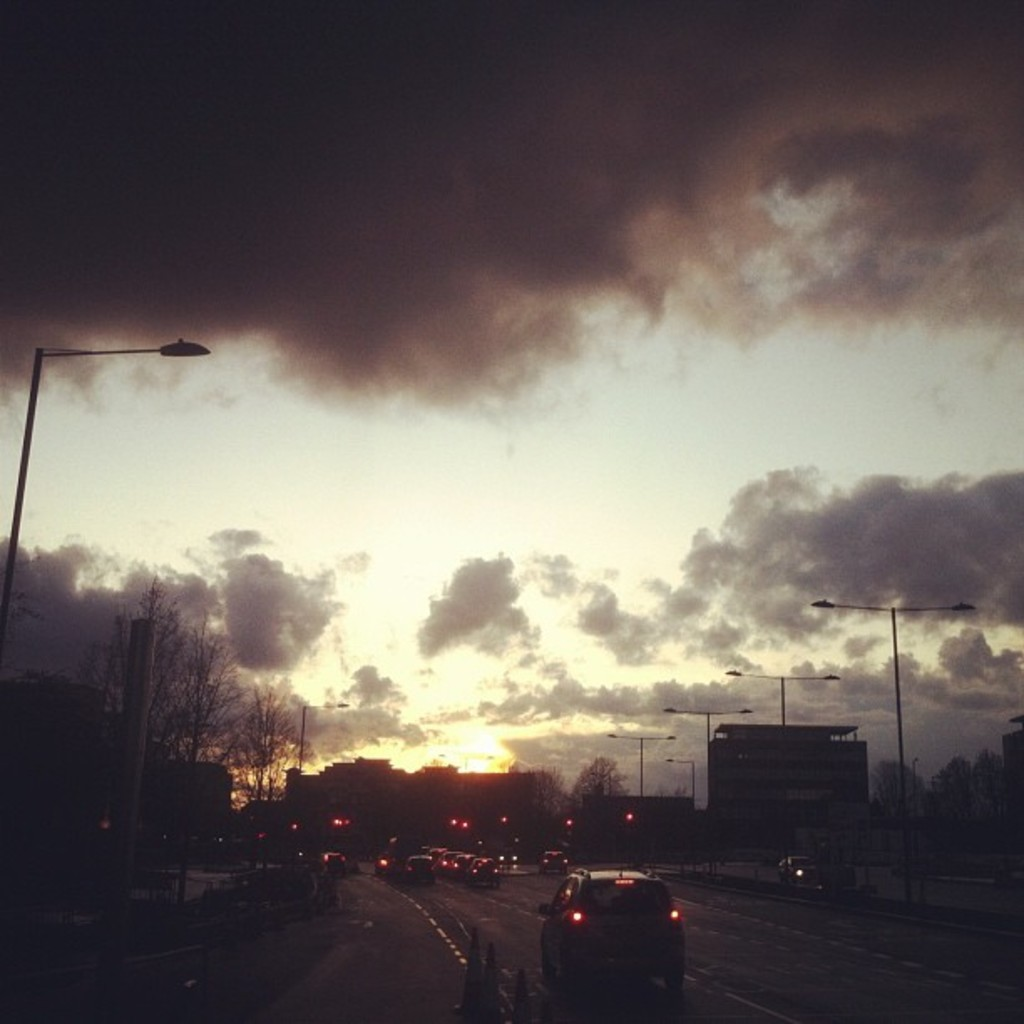Car: (525, 868, 680, 1008), (361, 831, 512, 886), (776, 853, 819, 883)
